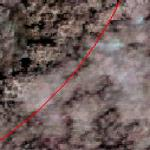alive: (2, 1, 146, 147)
